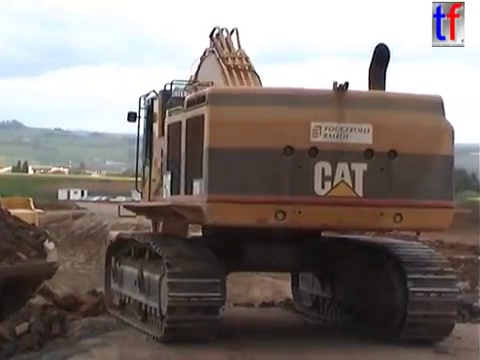excavator: (97, 21, 462, 348)
truck: (1, 192, 62, 343)
